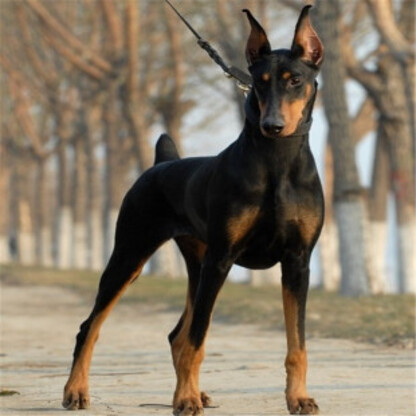doberman: (64, 4, 324, 416)
